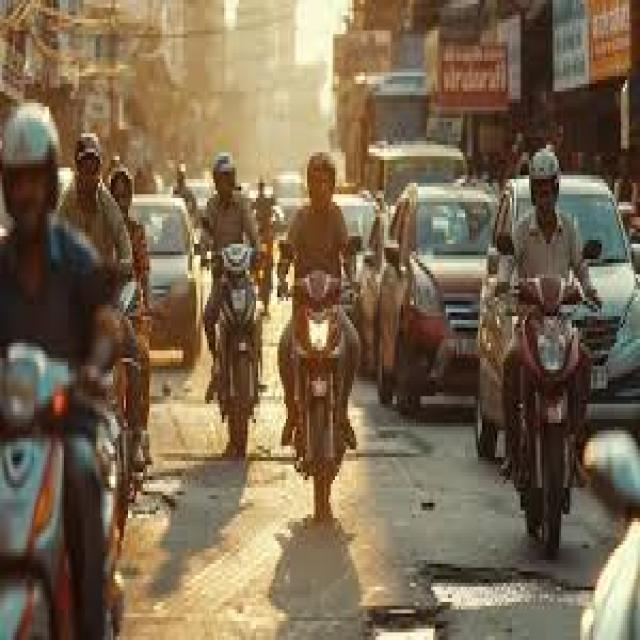motorcycle ahead at: (483, 144, 604, 564), (274, 148, 368, 522), (195, 151, 264, 458)
